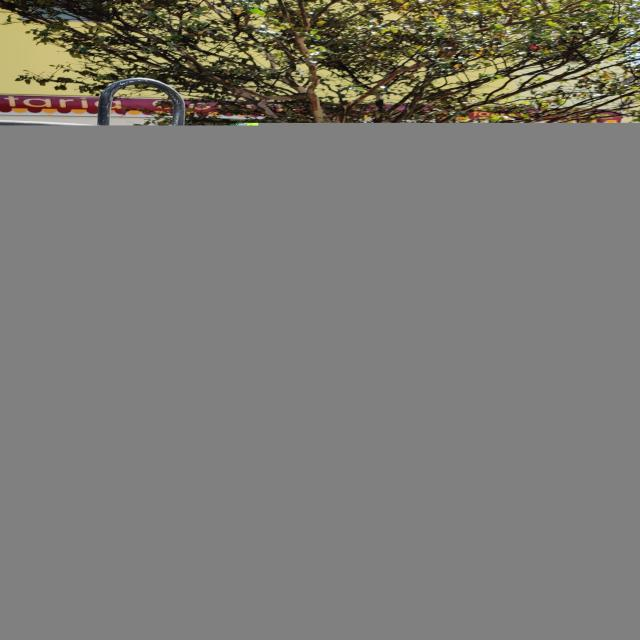Corrugated carton: (68, 520, 638, 640), (244, 590, 624, 640)
Pizza box: (112, 209, 524, 390)
